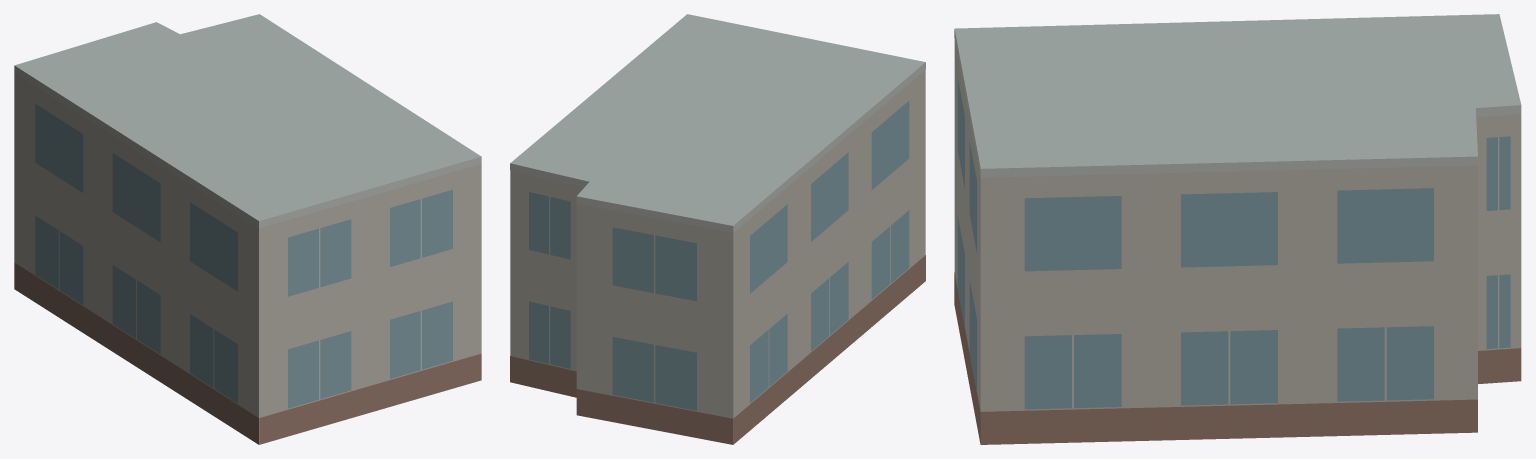
Rendered from survey-upis-32735034.glb.
3 views of the same model, side by side, from view 1: azimuth 30°, elevation 25°; view 2: azimuth 150°, elevation 25°; view 3: azimuth 270°, elevation 25° (orthographic). The views are drawn at different scales.
Parts seen in each view (by area): view 1: survey-upis-32735034.tmp; view 2: survey-upis-32735034.tmp; view 3: survey-upis-32735034.tmp.
Boxes of the visible parts, x1,y1,x2,y2 form: survey-upis-32735034.tmp: [14, 14, 481, 444]; survey-upis-32735034.tmp: [510, 14, 925, 444]; survey-upis-32735034.tmp: [954, 14, 1521, 444].
Bounding box in the file's own units: 9.03 × 7.5 × 13.97.
